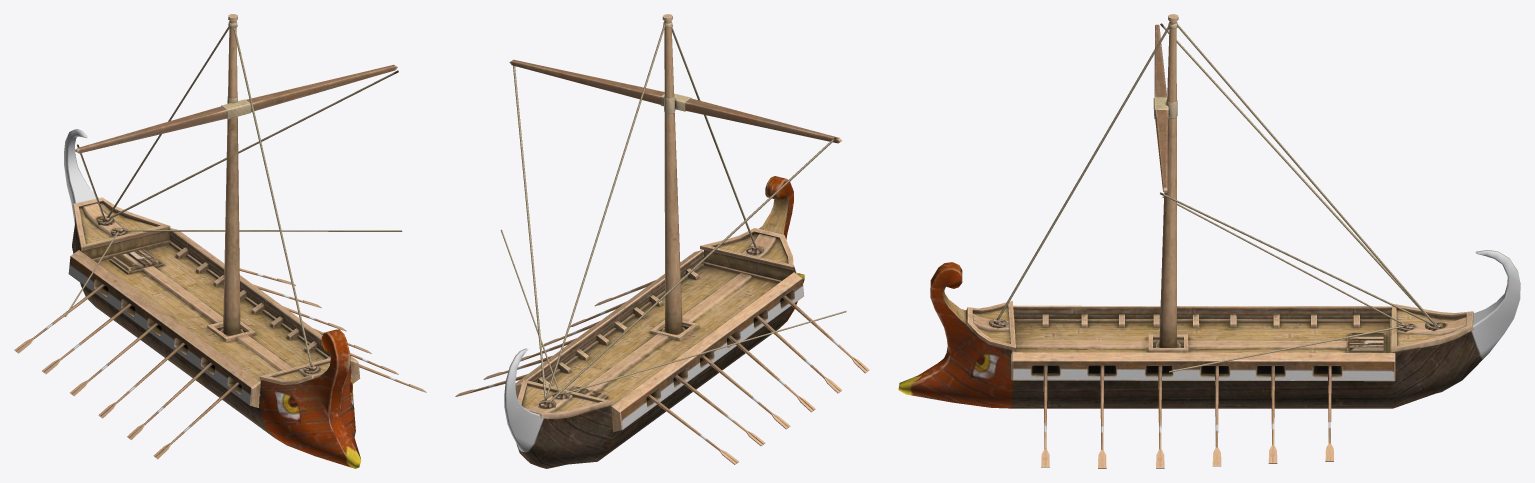
File: body-base.glb
3 views of the same model, side by side, from view 1: azimuth 30°, elevation 25°; view 2: azimuth 150°, elevation 25°; view 3: azimuth 270°, elevation 25° (orthographic). The views are drawn at different scales.
Bounding box in the file's own units: 9.22 × 9.54 × 13.79.
Materials: 1 (1 with a texture image).
